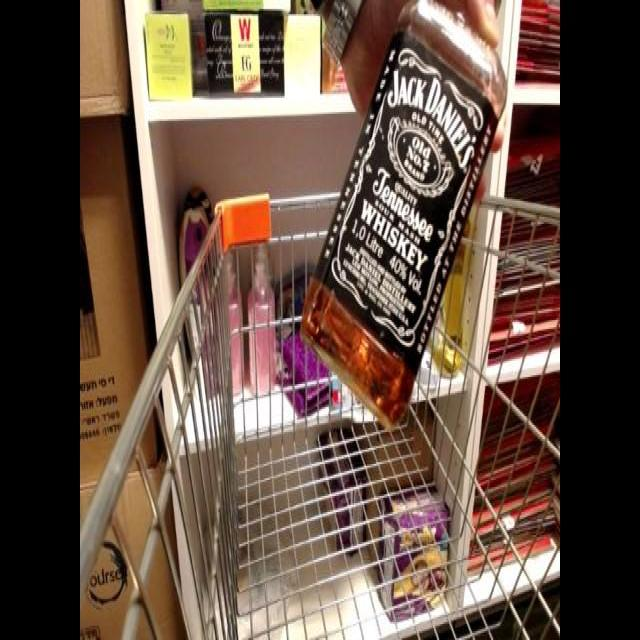Jack Daniels: (290, 1, 524, 442)
